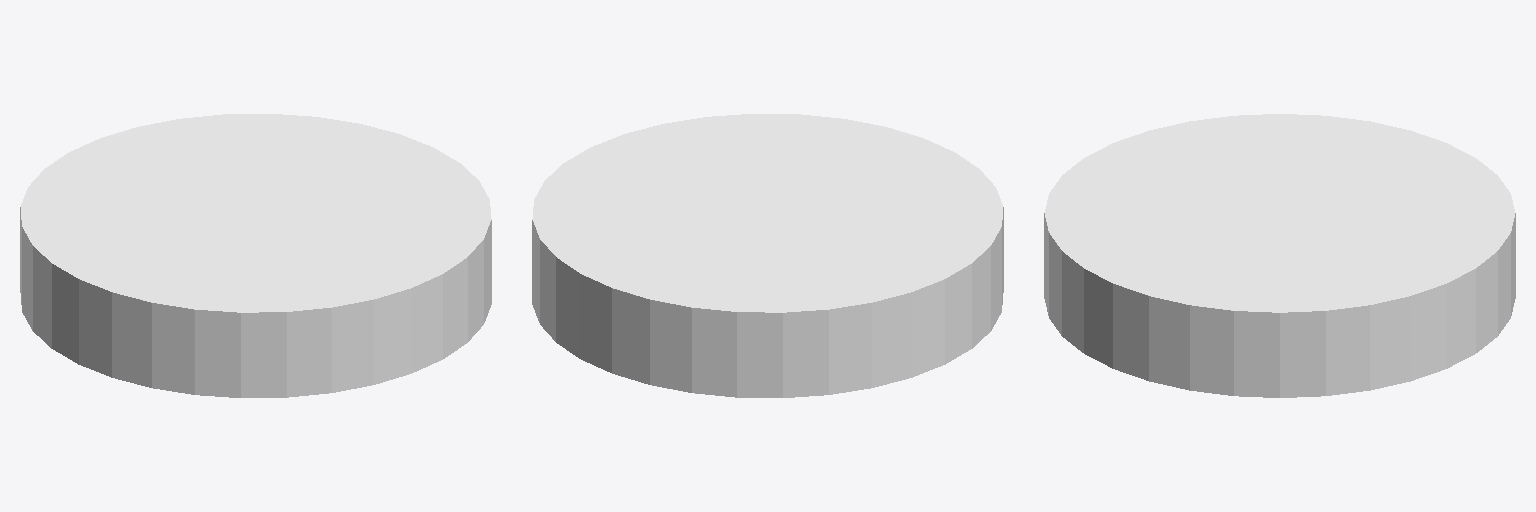
robot.urdf — dish:
<?xml version="0.0" ?>
<robot name="dish">
  <link name="dish">
    <contact>
      <lateral_friction value="0.7"/>
      <rolling_friction value="0.0"/>
      <contact_cfm value="0.0"/>
      <contact_erp value="0.1"/>
    </contact>
    <inertial>
      <origin rpy="0 0 0" xyz="0 0 0"/>
       <mass value=".5"/>
       <inertia ixx=".01" ixy="0" ixz="0" iyy=".01" iyz="0" izz=".01"/>
    </inertial>
    <visual>
      <origin rpy="0 0 0" xyz="0.0 0.0 0.0"/>
      <geometry>
        <cylinder radius="0.05" length="0.02"/>
      </geometry>
      <material name="desert sand">
        <color rgba="1 1 1 1" />
      </material>
    </visual>
     <!-- <collision>
      <origin rpy="0 0 0" xyz="0 0 0.0"/>
      <geometry>
        <cylinder radius="0.05" length="0.02"/>
      </geometry>
    </collision>     -->
    <collision>
      <origin rpy="0 0 0" xyz="0 0 0.0"/>
      <geometry>
        <box size="0.01 0.01 0.05"/>
      </geometry>
    </collision>  
  </link>


</robot>

--- Render facts (derived) ---
The picture shows the robot from 3 angles, left to right: view 1: azimuth 30°, elevation 25°; view 2: azimuth 150°, elevation 25°; view 3: azimuth 270°, elevation 25°; orthographic projection.
Robot: dish — 1 links, 0 joints (none); root link dish; default pose: all joints at 0.
Links seen in each view (by area): view 1: dish; view 2: dish; view 3: dish.
Link boxes in pixels (x1,y1,x2,y2): dish: (20, 114, 491, 397); dish: (532, 114, 1003, 397); dish: (1044, 114, 1515, 397).
Size in the robot's own frame: 0.1 by 0.1 by 0.02 metres.
Geometry: primitives only (box / cylinder / sphere), no mesh files.